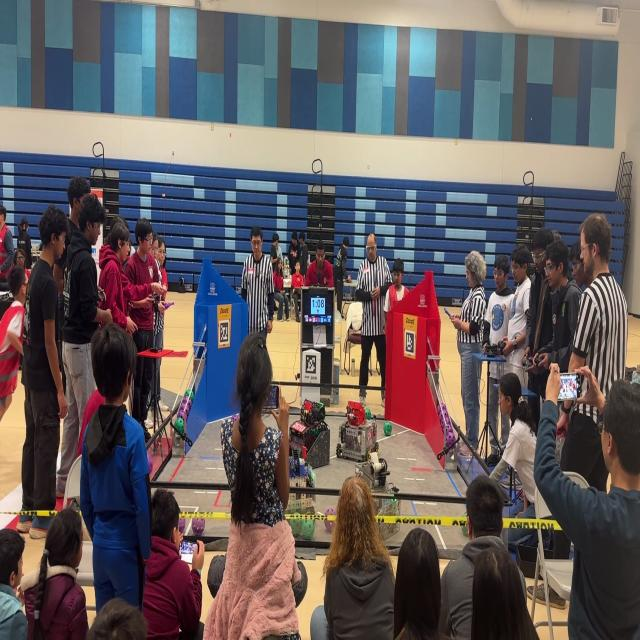artifact_green: (289, 518, 303, 536), (302, 520, 314, 540), (174, 418, 184, 434), (383, 420, 392, 437), (148, 451, 153, 478), (184, 390, 194, 401), (286, 518, 293, 532), (365, 408, 371, 420), (336, 443, 341, 457), (462, 526, 468, 537), (310, 472, 315, 485), (231, 414, 238, 421), (183, 390, 189, 398), (366, 451, 370, 461), (375, 443, 379, 452), (390, 499, 396, 503)
artifact_purple: (191, 518, 205, 536), (445, 428, 455, 449), (437, 405, 445, 431), (174, 416, 184, 433), (148, 452, 153, 476), (325, 521, 334, 533), (185, 399, 192, 414), (179, 398, 187, 411), (179, 518, 185, 533), (232, 414, 239, 422)
